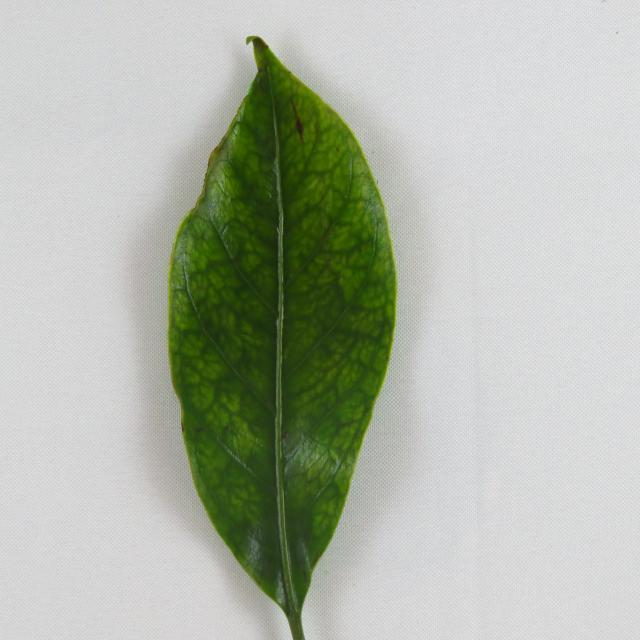DeficienciaNutricional-Manganeso: (169, 37, 396, 638)
